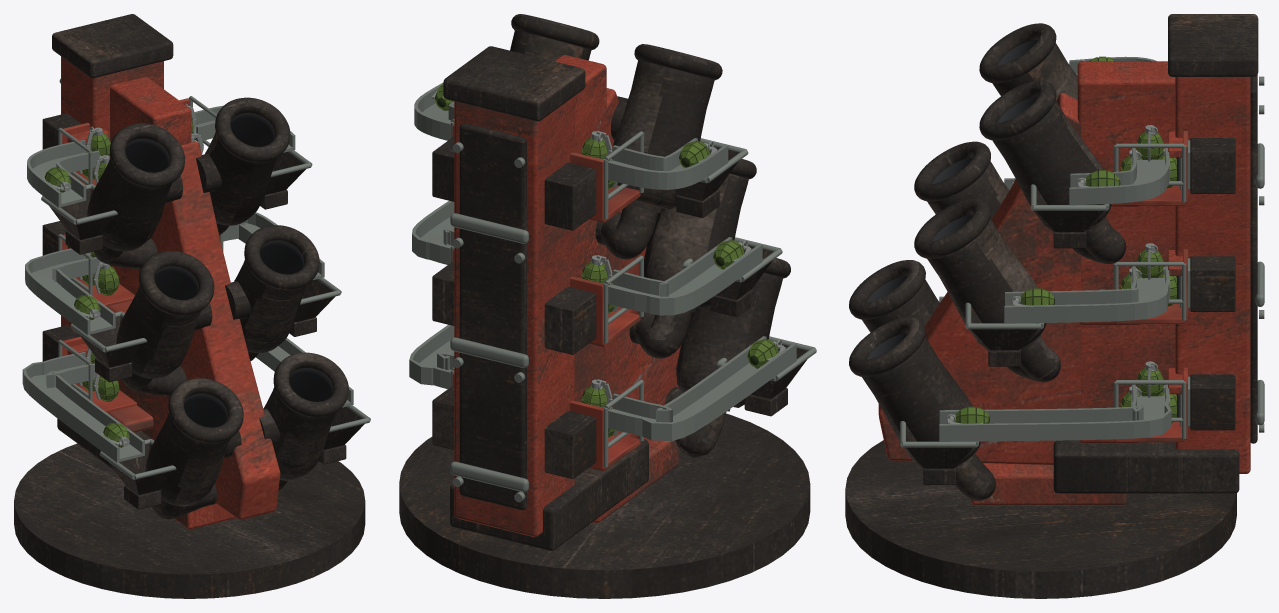
Rendered from six_lobber_central_feed_v06.glb.
3 views of the same model, side by side, from view 1: azimuth 30°, elevation 25°; view 2: azimuth 150°, elevation 25°; view 3: azimuth 270°, elevation 25° (orthographic). The views are drawn at different scales.
Parts seen in each view (by area): view 1: ROTARY_ADAPTER, CENTRAL_FIN, CAST_CANNON_LEFT_1, CAST_CANNON_LEFT_2, CAST_CANNON_LEFT_3, OPEN_GRENADE_GUIDE_LEFT_3, ROUNDED_MUZZLE_LEFT_3, ROUNDED_MUZZLE_LEFT_2, ROUNDED_MUZZLE_LEFT_1, CENTRAL_FEED_TOP_CAP, OPEN_GRENADE_GUIDE_LEFT_2, CENTRAL_ARM_TO_FIN_BRIDGE (+26 smaller); view 2: ROTARY_ADAPTER, SPINE_REAR_SERVICE_COVER, CENTRAL_AMMUNITION_ARMOURED_SPINE, OPEN_GRENADE_GUIDE_LEFT_3, CAST_CANNON_LEFT_1, OPEN_GRENADE_GUIDE_LEFT_2, CENTRAL_FEED_TOP_CAP, CENTRAL_FEED_BASE_CASTING, CAST_CANNON_LEFT_3, CAST_CANNON_LEFT_2, CENTRAL_ARM_TO_FIN_BRIDGE, OPEN_GRENADE_GUIDE_LEFT_1 (+27 smaller); view 3: ROTARY_ADAPTER, CENTRAL_ARM_TO_FIN_BRIDGE, CENTRAL_AMMUNITION_ARMOURED_SPINE, CENTRAL_FIN, CENTRAL_FEED_BASE_CASTING, CAST_CANNON_LEFT_1, CAST_CANNON_LEFT_2, CAST_CANNON_LEFT_3, OPEN_GRENADE_GUIDE_LEFT_3, CENTRAL_FEED_TOP_CAP, ROUNDED_MUZZLE_LEFT_1, ROUNDED_MUZZLE_LEFT_2 (+21 smaller).
Boxes of the visible parts, box(x1,y1,x2,y2) form: ROTARY_ADAPTER: box(14, 443, 365, 598); CENTRAL_FIN: box(152, 141, 280, 519); CAST_CANNON_LEFT_1: box(87, 113, 277, 251); CAST_CANNON_LEFT_2: box(116, 240, 306, 378); CAST_CANNON_LEFT_3: box(145, 368, 335, 506); OPEN_GRENADE_GUIDE_LEFT_3: box(22, 338, 353, 462); ROUNDED_MUZZLE_LEFT_3: box(168, 352, 348, 442); ROUNDED_MUZZLE_LEFT_2: box(139, 225, 319, 315); ROUNDED_MUZZLE_LEFT_1: box(110, 97, 290, 188); CENTRAL_FEED_TOP_CAP: box(52, 14, 173, 78); OPEN_GRENADE_GUIDE_LEFT_2: box(25, 212, 324, 334); CENTRAL_ARM_TO_FIN_BRIDGE: box(110, 77, 191, 438); ROTARY_ADAPTER: box(399, 413, 810, 598); SPINE_REAR_SERVICE_COVER: box(459, 123, 526, 510); CENTRAL_AMMUNITION_ARMOURED_SPINE: box(454, 96, 574, 537); OPEN_GRENADE_GUIDE_LEFT_3: box(409, 324, 796, 440); CAST_CANNON_LEFT_1: box(510, 30, 714, 209); OPEN_GRENADE_GUIDE_LEFT_2: box(412, 200, 762, 315); CENTRAL_FEED_TOP_CAP: box(443, 46, 585, 121); CENTRAL_FEED_BASE_CASTING: box(450, 438, 648, 550); CAST_CANNON_LEFT_3: box(676, 273, 782, 407); CAST_CANNON_LEFT_2: box(644, 174, 748, 308); CENTRAL_ARM_TO_FIN_BRIDGE: box(554, 55, 606, 402); OPEN_GRENADE_GUIDE_LEFT_1: box(414, 83, 728, 189); ROTARY_ADAPTER: box(845, 440, 1236, 598); CENTRAL_ARM_TO_FIN_BRIDGE: box(1077, 61, 1175, 408); CENTRAL_AMMUNITION_ARMOURED_SPINE: box(1175, 77, 1250, 473); CENTRAL_FIN: box(878, 92, 1080, 464); CENTRAL_FEED_BASE_CASTING: box(1053, 440, 1239, 493); CAST_CANNON_LEFT_1: box(992, 40, 1111, 231); CAST_CANNON_LEFT_2: box(927, 158, 1046, 349); CAST_CANNON_LEFT_3: box(862, 276, 980, 468); OPEN_GRENADE_GUIDE_LEFT_3: box(939, 296, 1171, 441); CENTRAL_FEED_TOP_CAP: box(1168, 14, 1258, 76); ROUNDED_MUZZLE_LEFT_1: box(979, 23, 1056, 140); ROUNDED_MUZZLE_LEFT_2: box(914, 141, 990, 258).
Bounding box in the file's own units: 1.56 × 2.11 × 1.67.
Materials: 7 (2 with a texture image).
